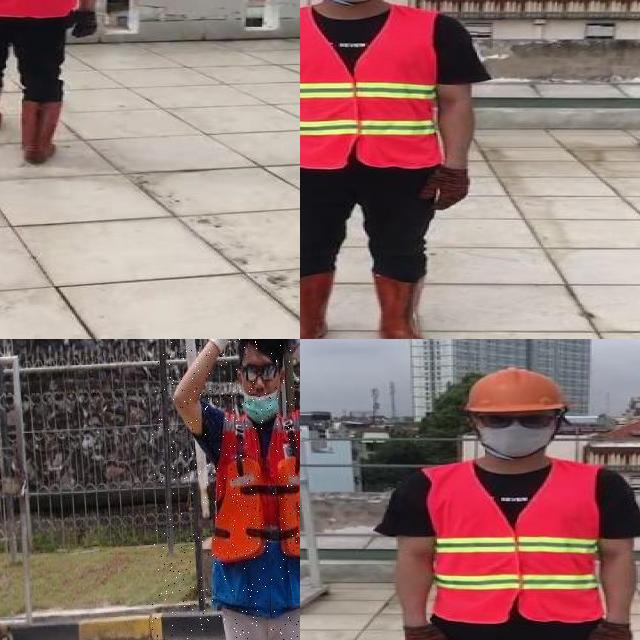boots: (368, 272, 439, 339), (17, 98, 66, 162), (300, 274, 327, 339)
face_mask: (472, 406, 558, 458)
glasses: (469, 408, 561, 435)
hand_glove: (420, 168, 472, 209), (66, 9, 100, 38), (582, 621, 632, 640), (399, 623, 453, 640)
head_helmet: (464, 364, 570, 414)
person: (371, 365, 640, 640), (300, 0, 487, 339), (152, 339, 300, 640), (0, 0, 111, 171)
vest: (414, 460, 608, 621), (300, 7, 439, 168), (213, 408, 300, 611)
